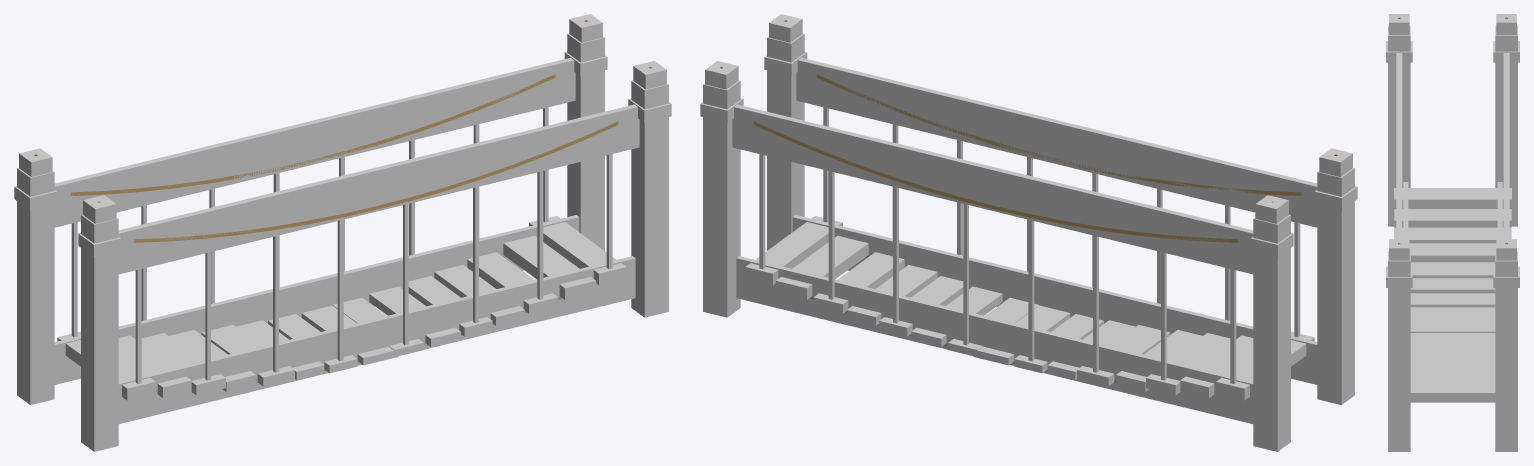
Rendered from rope_bridge.glb.
3 views of the same model, side by side, from view 1: azimuth 30°, elevation 25°; view 2: azimuth 150°, elevation 25°; view 3: azimuth 270°, elevation 25° (orthographic). The views are drawn at different scales.
Visible parts, largest first — view 1: COL_rope_bridge_06, COL_rope_bridge_07, COL_rope_bridge_04, COL_rope_bridge_05, COL_rope_bridge_03, COL_rope_bridge_01, COL_rope_bridge_00, COL_rope_bridge_02, COL_rope_bridge_22, COL_rope_bridge_21, hand_rope_front, hand_rope_back (+26 smaller); view 2: COL_rope_bridge_06, COL_rope_bridge_07, COL_rope_bridge_05, COL_rope_bridge_04, COL_rope_bridge_01, COL_rope_bridge_03, COL_rope_bridge_02, COL_rope_bridge_00, COL_rope_bridge_22, COL_rope_bridge_21, hand_rope_back, COL_rope_bridge_20 (+26 smaller); view 3: COL_rope_bridge_00, COL_rope_bridge_02, COL_rope_bridge_01, COL_rope_bridge_03, COL_rope_bridge_08, COL_rope_bridge_09, COL_rope_bridge_22, COL_rope_bridge_11, COL_rope_bridge_10, COL_rope_bridge_12, COL_rope_bridge_13, COL_rope_bridge_06 (+19 smaller).
Boxes of the visible parts, bbox=[...] form: COL_rope_bridge_06: bbox=[118, 104, 639, 274]; COL_rope_bridge_07: bbox=[54, 57, 575, 227]; COL_rope_bridge_04: bbox=[118, 256, 635, 423]; COL_rope_bridge_05: bbox=[54, 215, 579, 384]; COL_rope_bridge_03: bbox=[17, 167, 54, 404]; COL_rope_bridge_01: bbox=[81, 214, 118, 451]; COL_rope_bridge_00: bbox=[631, 80, 668, 317]; COL_rope_bridge_02: bbox=[567, 33, 604, 250]; COL_rope_bridge_22: bbox=[529, 216, 626, 285]; COL_rope_bridge_21: bbox=[503, 235, 596, 299]; hand_rope_front: bbox=[133, 121, 618, 242]; hand_rope_back: bbox=[70, 74, 556, 195]; COL_rope_bridge_06: bbox=[796, 57, 1317, 227]; COL_rope_bridge_07: bbox=[732, 104, 1253, 274]; COL_rope_bridge_05: bbox=[736, 256, 1253, 423]; COL_rope_bridge_04: bbox=[792, 215, 1317, 384]; COL_rope_bridge_01: bbox=[1317, 167, 1354, 404]; COL_rope_bridge_03: bbox=[1253, 214, 1290, 451]; COL_rope_bridge_02: bbox=[703, 80, 740, 317]; COL_rope_bridge_00: bbox=[767, 33, 804, 250]; COL_rope_bridge_22: bbox=[745, 216, 842, 285]; COL_rope_bridge_21: bbox=[776, 235, 868, 299]; hand_rope_back: bbox=[753, 121, 1238, 242]; COL_rope_bridge_20: bbox=[813, 252, 904, 313]; COL_rope_bridge_00: bbox=[1388, 251, 1410, 451]; COL_rope_bridge_02: bbox=[1495, 251, 1517, 451]; COL_rope_bridge_01: bbox=[1388, 25, 1410, 226]; COL_rope_bridge_03: bbox=[1495, 25, 1517, 226]; COL_rope_bridge_08: bbox=[1394, 188, 1511, 209]; COL_rope_bridge_09: bbox=[1394, 209, 1511, 227]; COL_rope_bridge_22: bbox=[1410, 381, 1495, 402]; COL_rope_bridge_11: bbox=[1409, 243, 1496, 262]; COL_rope_bridge_10: bbox=[1394, 227, 1511, 243]; COL_rope_bridge_12: bbox=[1410, 262, 1495, 278]; COL_rope_bridge_13: bbox=[1410, 278, 1495, 293]; COL_rope_bridge_06: bbox=[1396, 53, 1402, 239].
Size of the model in its own units: 3.44 by 1.38 by 0.8236.
3 materials, 3 textured.
